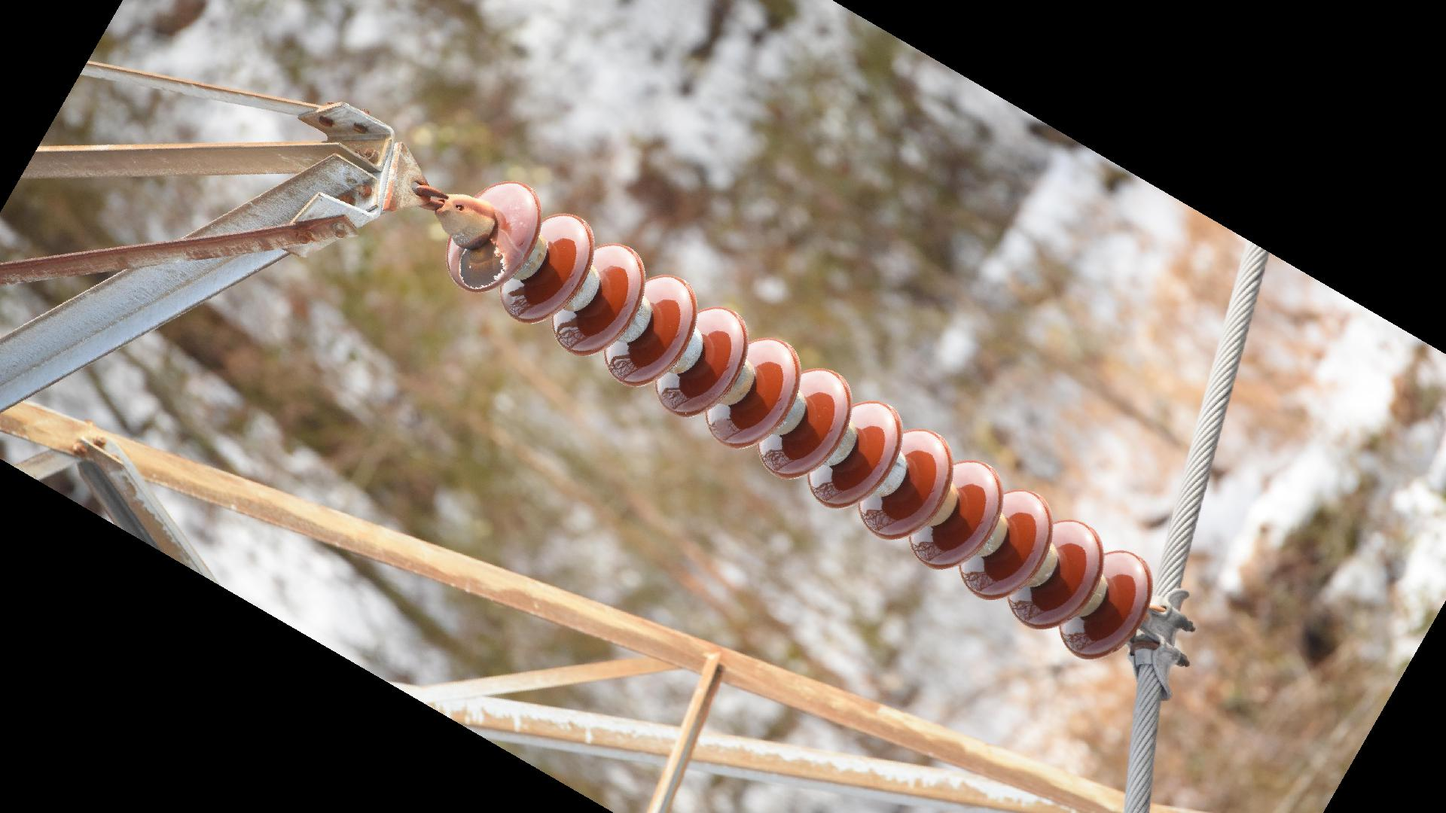insulator: (441, 176, 1157, 664)
insulator_flashover: (456, 237, 507, 292)
